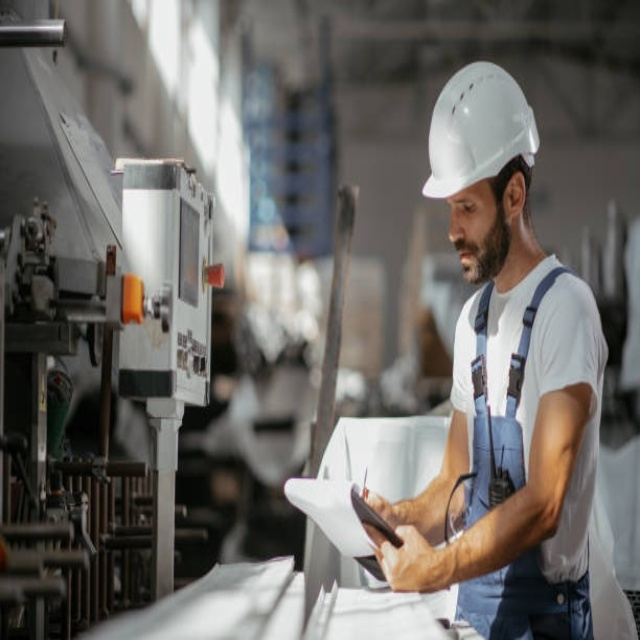Sin_gafas: (443, 188, 487, 218)
Sin_guantes: (369, 520, 440, 592)
Sin_mascara: (452, 242, 485, 282)
